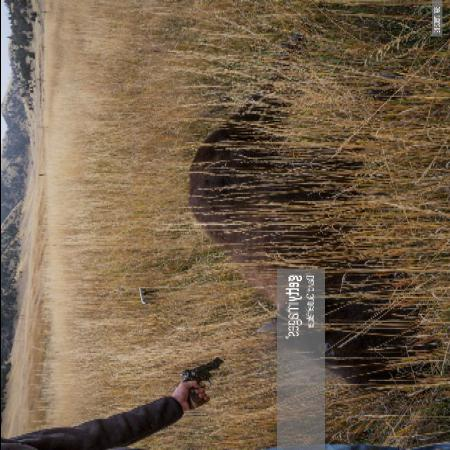Pistol: (174, 354, 225, 410)
